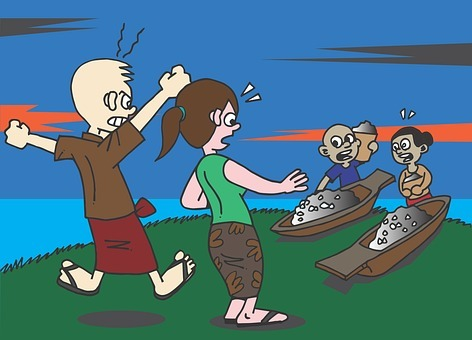person: (3, 57, 196, 303), (153, 75, 309, 326), (311, 120, 379, 192), (390, 124, 436, 208)
